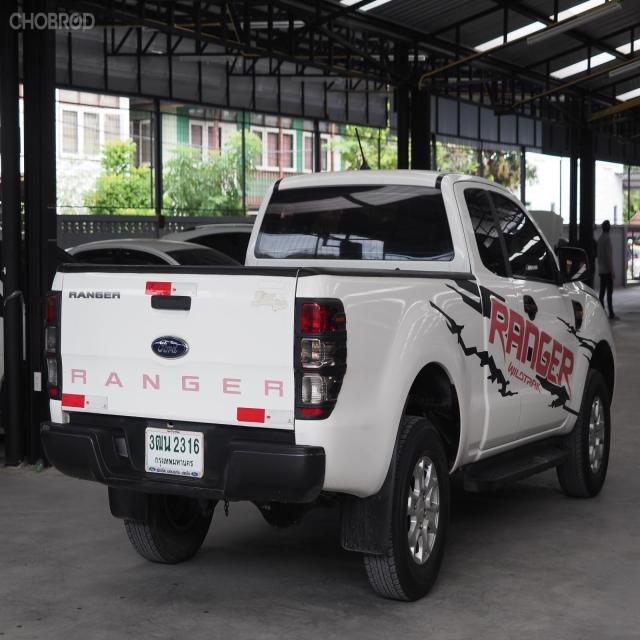license_plate: (144, 427, 208, 482)
